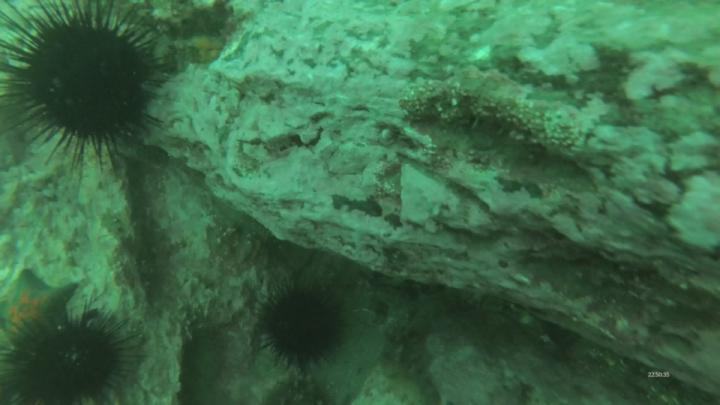echinus: (1, 1, 174, 172), (1, 306, 143, 405), (249, 282, 346, 370)
holothurian: (382, 285, 477, 348), (367, 352, 445, 405), (263, 375, 340, 405)
starfish: (1, 266, 81, 346)
